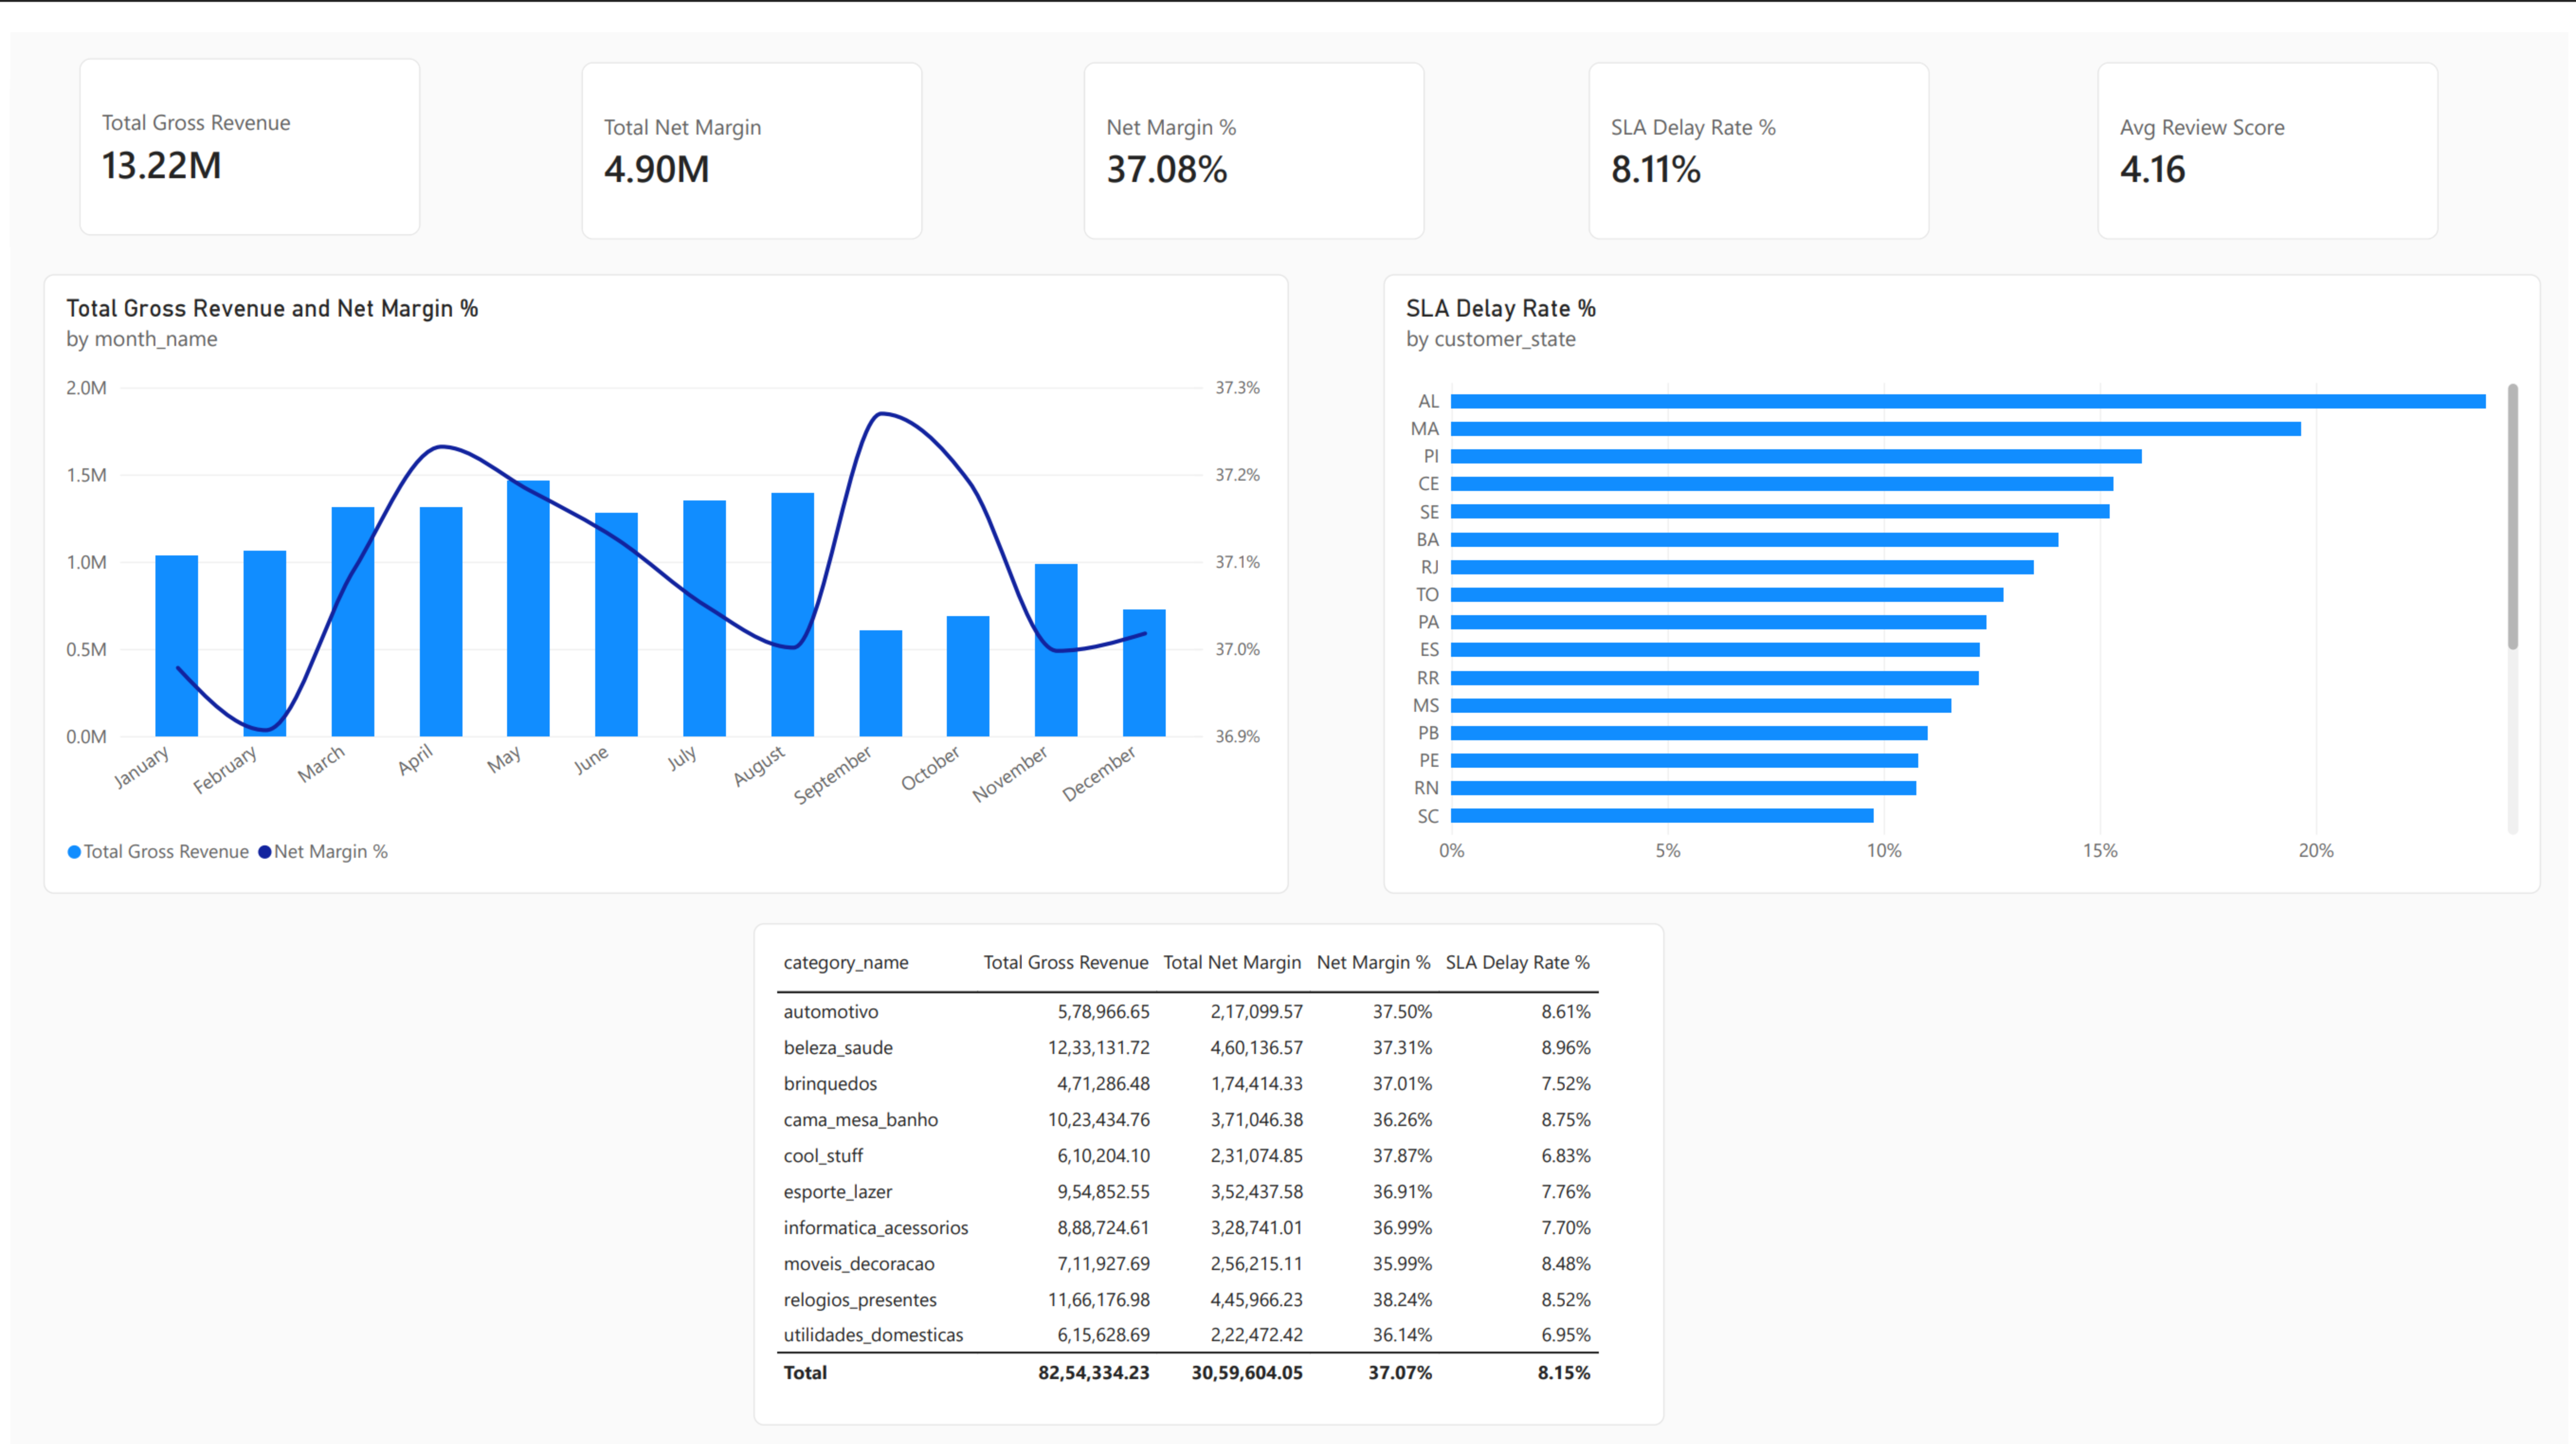

The dashboard page shown, as its layout file describes it:
{"tool":"powerbi","page":{"name":"Executive Margin & Growth Scorecard","canvas":[1920,1080],"ordinal":0},"visuals":[{"type":"cardVisual","fields":{"Data":["_Measures.Total Gross Revenue"]},"box":[25.1,22.6,256.2,133.1],"z":0},{"type":"cardVisual","fields":{"Data":["_Measures.Total Net Margin"]},"box":[314,22.6,256.2,133.1],"z":1},{"type":"cardVisual","fields":{"Data":["_Measures.Net Margin %"]},"box":[602.9,22.6,256.2,133.1],"z":2},{"type":"cardVisual","fields":{"Data":["_Measures.SLA Delay Rate %"]},"box":[901.8,22.6,256.2,133.1],"z":3},{"type":"cardVisual","fields":{"Data":["_Measures.Avg Review Score"]},"box":[1203.3,22.6,256.2,133.1],"z":4},{"type":"lineClusteredColumnComboChart","fields":{"Category":["dw dim_date.month_name"],"Y":["_Measures.Total Gross Revenue"],"Y2":["_Measures.Net Margin %"]},"box":[24.7,181.5,934.8,464.7],"z":5},{"type":"clusteredBarChart","fields":{"Category":["dw dim_customers.customer_state"],"Y":["_Measures.SLA Delay Rate %"]},"box":[1031,181.5,868.8,464.7],"z":6},{"type":"tableEx","fields":{"Values":["dw dim_products.category_name","_Measures.Total Gross Revenue","_Measures.Total Net Margin","_Measures.Net Margin %","_Measures.SLA Delay Rate %"]},"box":[558.1,668.1,684,377.1],"z":7}]}

Visuals, with their boxes in screenshot pixels (x1, y1, x2, y2), scaled from the page's 1920x1080 canvas onto the 2576x1444 screenshot:
cardVisual - _Measures.Total Gross Revenue: x1=34, y1=30, x2=377, y2=208
cardVisual - _Measures.Total Net Margin: x1=421, y1=30, x2=765, y2=208
cardVisual - _Measures.Net Margin %: x1=809, y1=30, x2=1152, y2=208
cardVisual - _Measures.SLA Delay Rate %: x1=1210, y1=30, x2=1554, y2=208
cardVisual - _Measures.Avg Review Score: x1=1615, y1=30, x2=1958, y2=208
lineClusteredColumnComboChart - dw dim_date.month_name x _Measures.Total Gross Revenue: x1=33, y1=243, x2=1288, y2=864
clusteredBarChart - dw dim_customers.customer_state x _Measures.SLA Delay Rate %: x1=1383, y1=243, x2=2549, y2=864
tableEx - dw dim_products.category_name x _Measures.Total Gross Revenue: x1=749, y1=893, x2=1667, y2=1398
